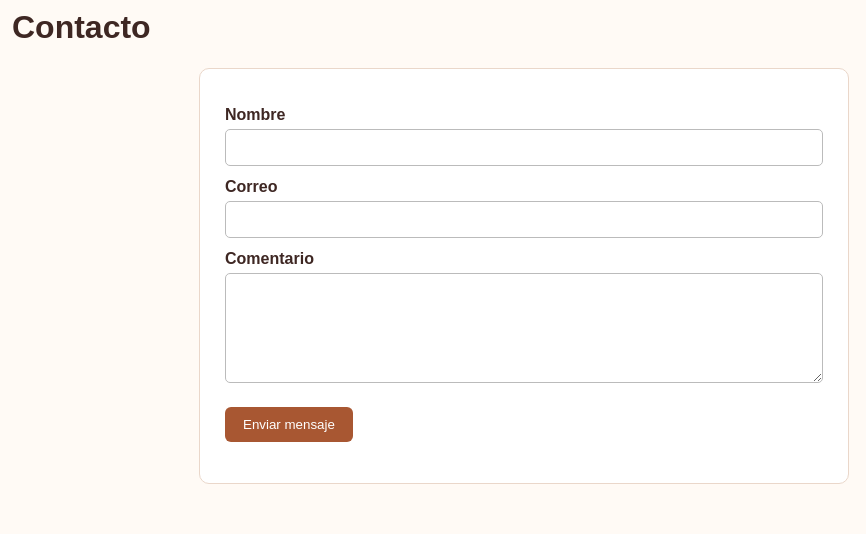
Contacto › confirma el envio con datos validos
The width and height of the screenshot is (866, 534).
Step 1. Type "Ana" into the field with id "nombre" → (524, 148), box [225,129,823,166]
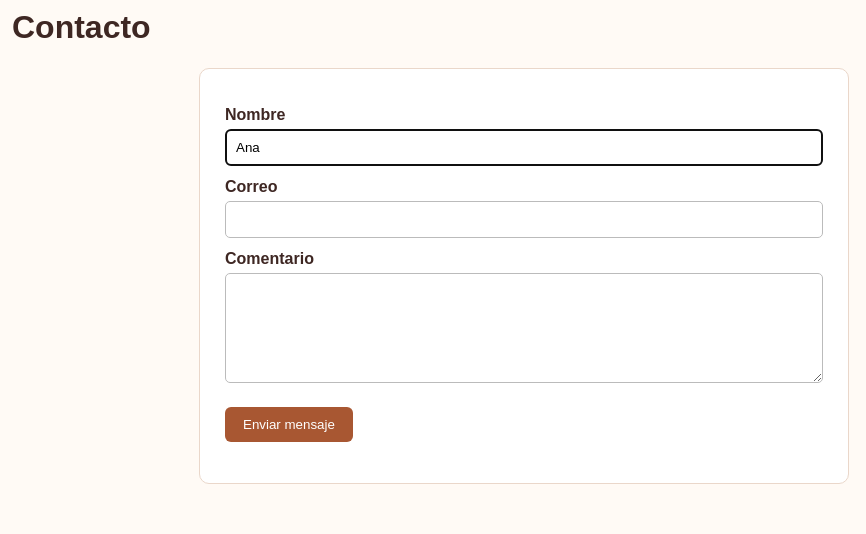
Step 2. Type "ana@gmail.com" into the field with id "correo" → (524, 220), box [225,201,823,238]
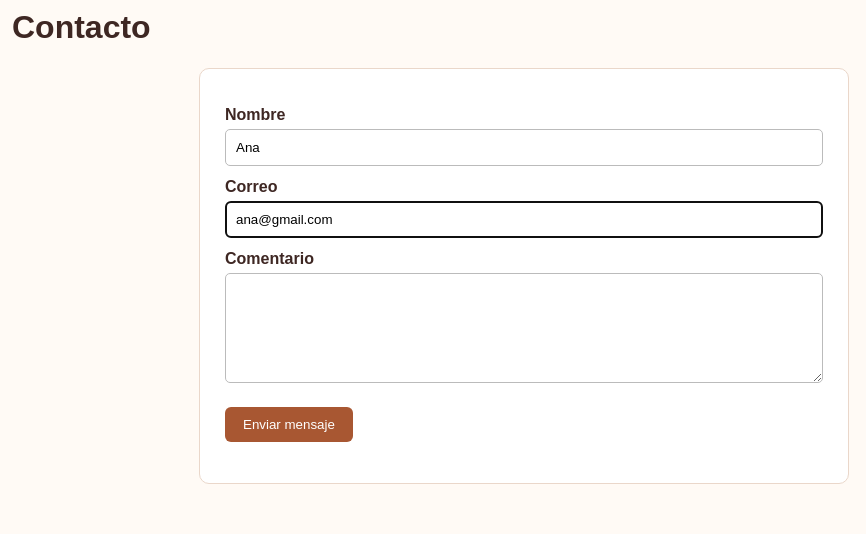
Step 3. Type "Hola, quiero una torta." into the text box with id "comentario" → (524, 328), box [225,273,823,383]
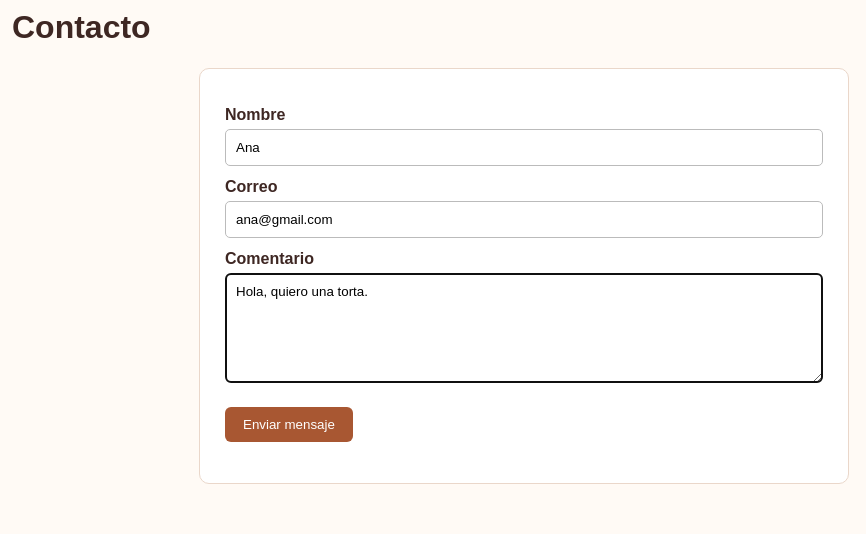
Step 4. Click the button "Enviar mensaje" → (289, 425), box [225,407,353,442]
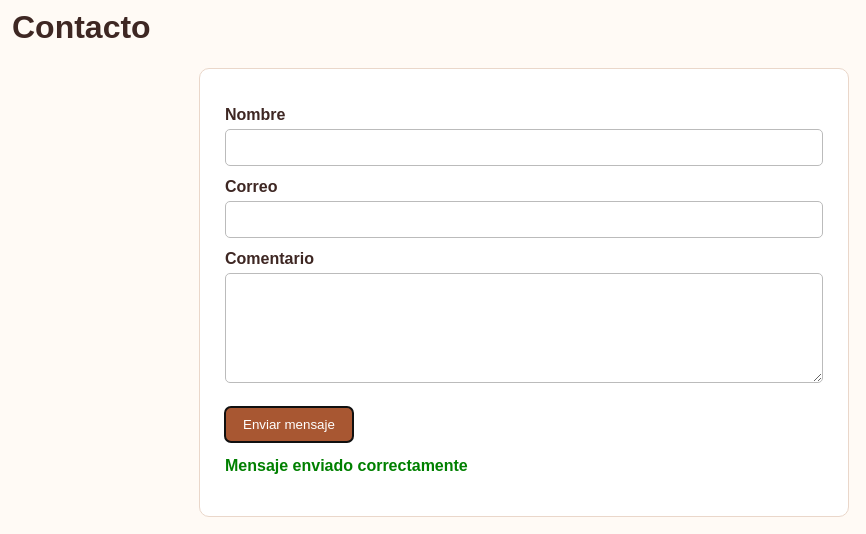
Result: the text "Mensaje enviado correctamente" is shown at [225,457,468,474]
